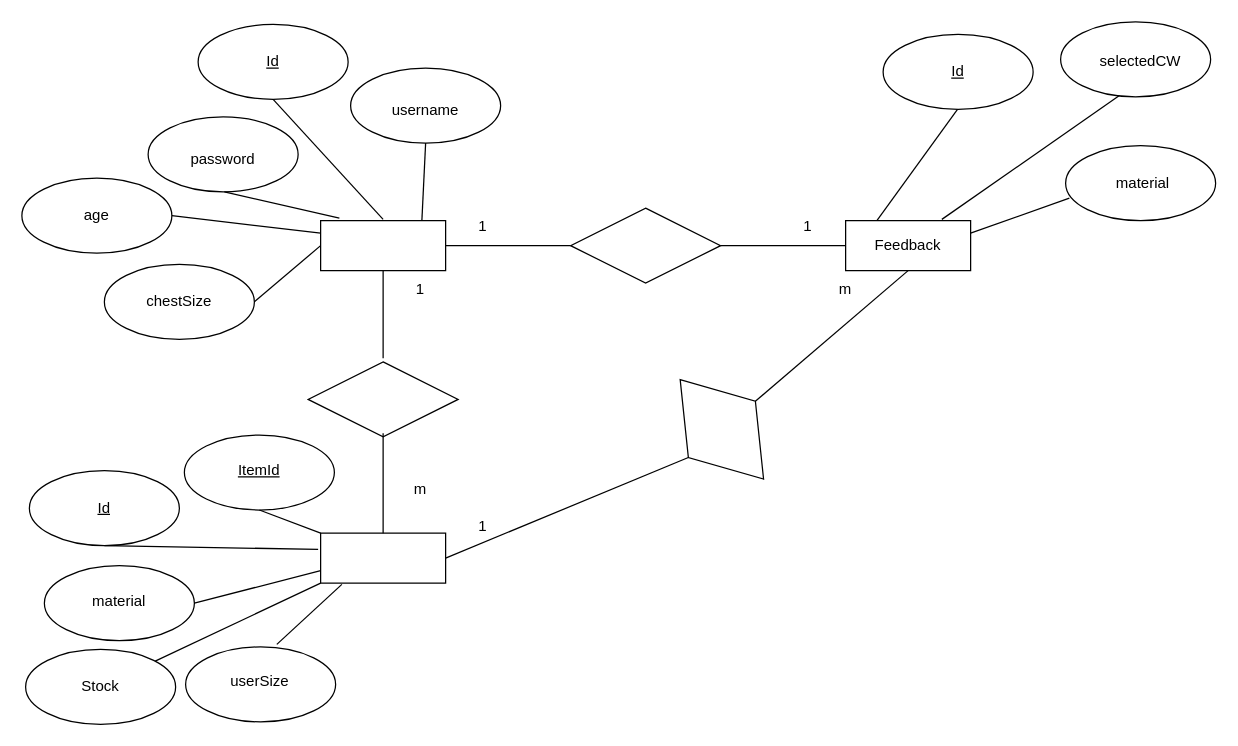
The diagram is 1238 pixels wide and 746 high, and some of its shapes have lost their labels. Here are the shapes that lost their labels. From the top down, the centre of each, then its label:
At (382,245): "User".
At (645,245): "sends".
At (382,399): "buys".
At (721,428): "has".
At (382,557): "ClothingItem".
